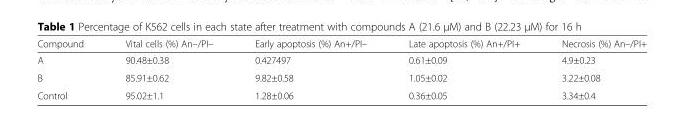table: (36, 37, 646, 100)
table column: (233, 37, 387, 100), (387, 37, 540, 100), (103, 37, 233, 100), (540, 37, 646, 100), (36, 37, 103, 100)
table column header: (36, 37, 646, 51)
table row: (36, 68, 646, 86), (36, 51, 646, 68), (36, 37, 646, 51), (36, 86, 646, 100)
